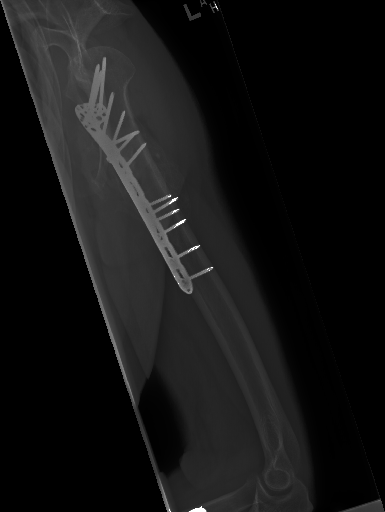implant: (74, 52, 145, 189), (141, 188, 216, 294)
